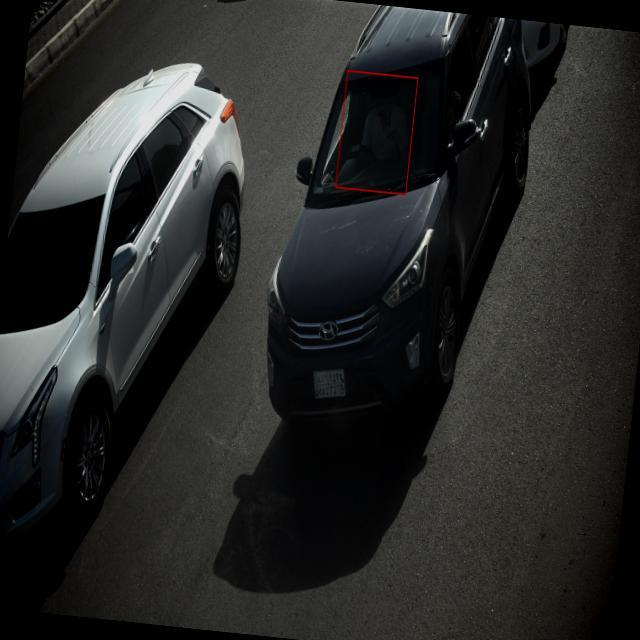windshield: (305, 62, 457, 210)
